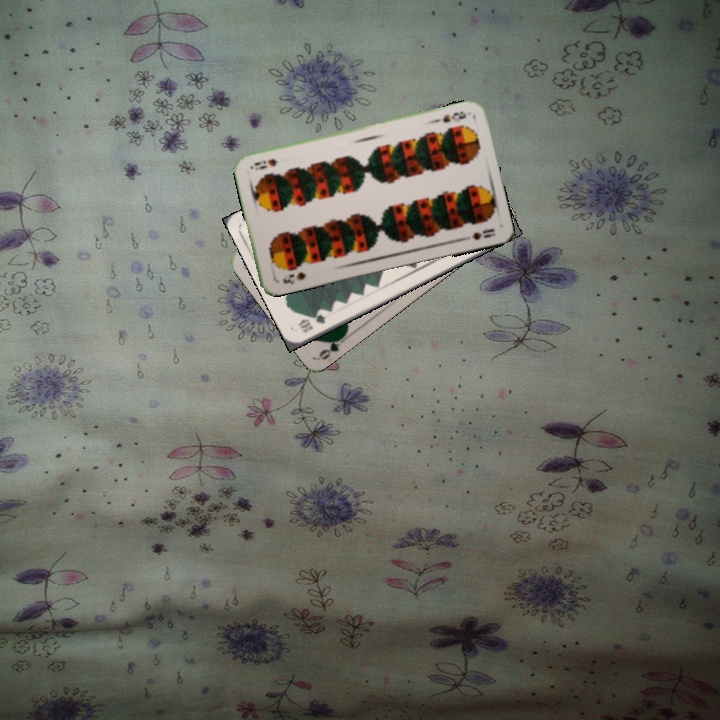G10: (294, 310, 328, 335)
GO: (315, 328, 352, 362)
S8: (430, 107, 469, 125), (279, 268, 308, 287)
